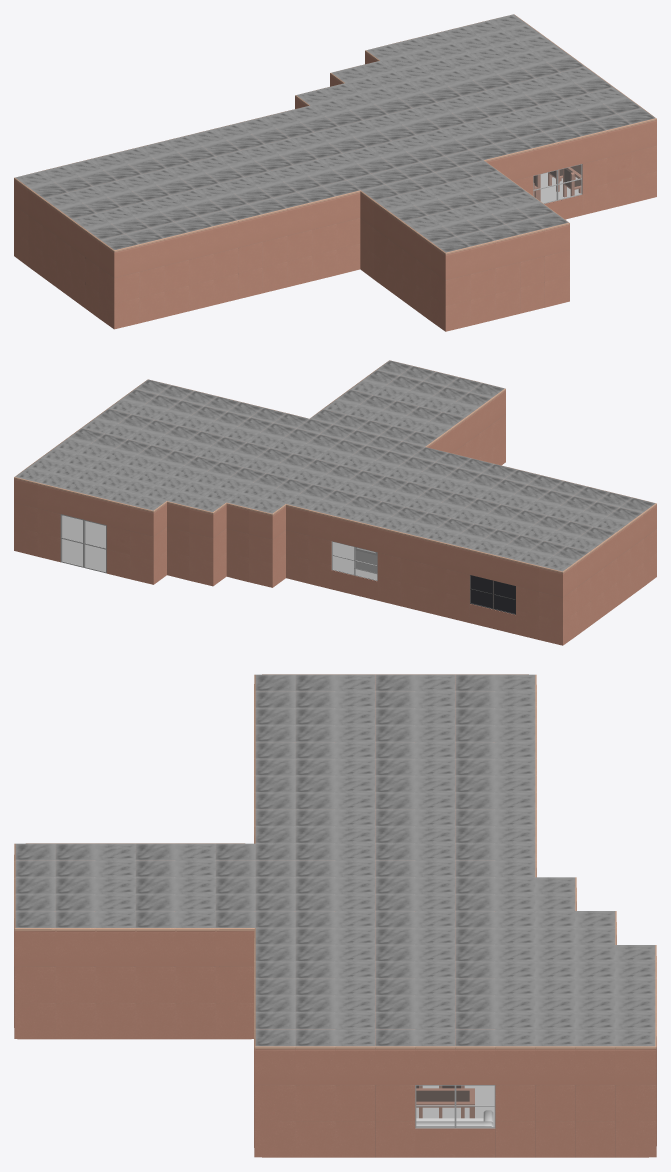
Rendered from Luans.fbx.
3 renders of one model, top to bottom at view 1: azimuth 30°, elevation 25°; view 2: azimuth 150°, elevation 25°; view 3: azimuth 270°, elevation 25°, orthographic. The views are drawn at different scales.
Visible parts, largest first — view 1: LuansFora, Luans, Cadeiras; view 2: LuansFora, Luans, Portas; view 3: LuansFora, Luans, MesaSofa, Sofá.
Part boxes in pixels (x1,y1,x2,y2): LuansFora: (14, 14, 656, 331); Luans: (533, 164, 582, 203); Cadeiras: (533, 168, 581, 200); LuansFora: (14, 360, 656, 645); Luans: (62, 515, 377, 580); Portas: (60, 514, 106, 573); LuansFora: (14, 674, 656, 1157); Luans: (415, 1085, 495, 1128); MesaSofa: (416, 1088, 474, 1118); Sofá: (416, 1110, 493, 1126).
Size of the model in its own units: 2208 by 306 by 1608.
